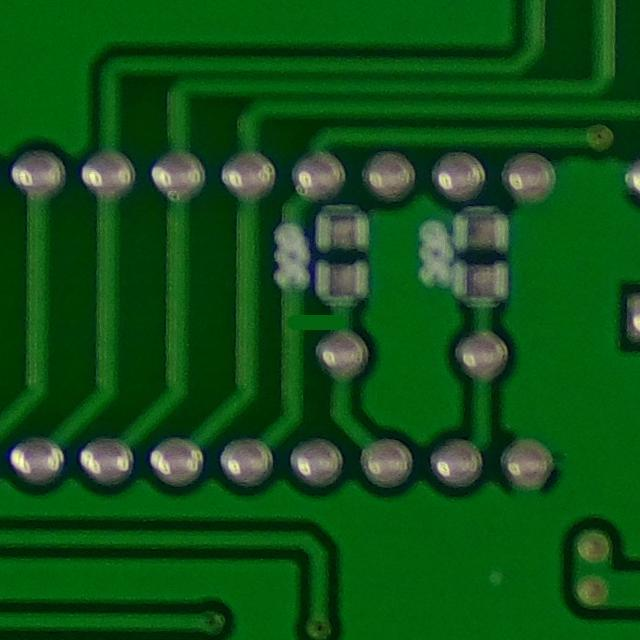short: (273, 288, 368, 352)
